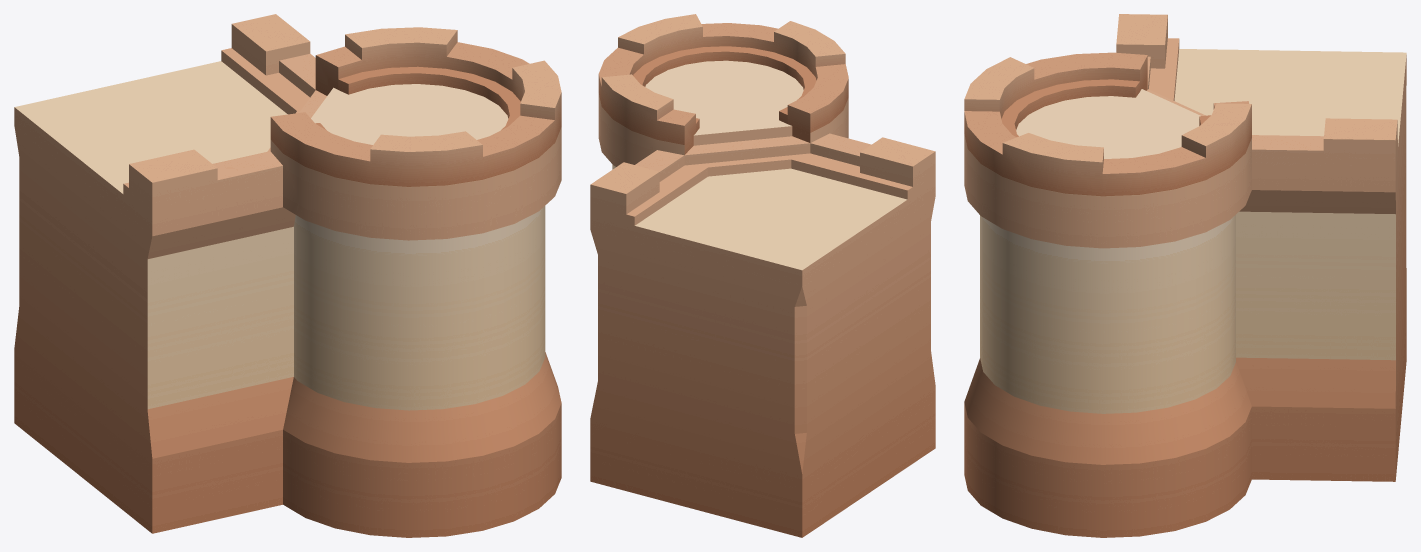
The model's file is wall-corner-half-tower_lev3.glb.
The picture shows the model from 3 angles, left to right: view 1: azimuth 30°, elevation 25°; view 2: azimuth 150°, elevation 25°; view 3: azimuth 270°, elevation 25°; orthographic projection. The views are drawn at different scales.
Visible parts, largest first — view 1: wall-corner-half-tower_lev3; view 2: wall-corner-half-tower_lev3; view 3: wall-corner-half-tower_lev3.
Boxes of the visible parts, x1,y1,x2,y2 form: wall-corner-half-tower_lev3: (14, 14, 561, 537); wall-corner-half-tower_lev3: (590, 14, 935, 537); wall-corner-half-tower_lev3: (964, 14, 1406, 537).
Bounding box in the file's own units: 8.9 × 8.55 × 9.13.
Materials: 1 (1 with a texture image).
